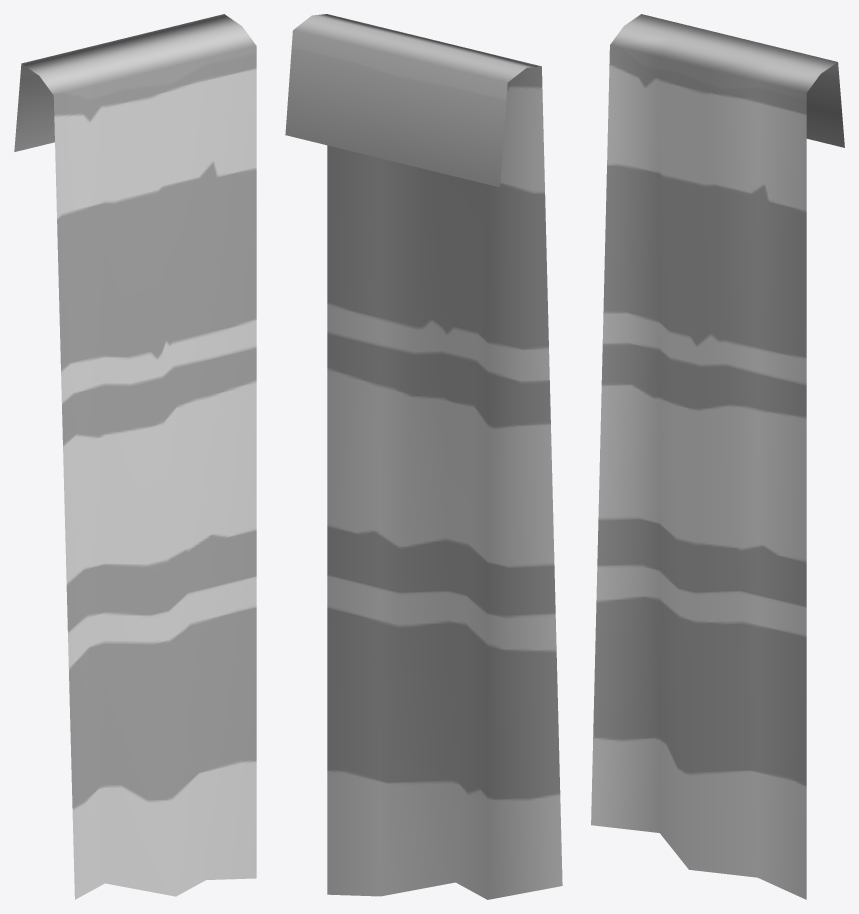
Rendered from BannerWall4.fbx.
3 views of the same model, side by side, from view 1: azimuth 30°, elevation 25°; view 2: azimuth 150°, elevation 25°; view 3: azimuth 330°, elevation 25° (orthographic). The views are drawn at different scales.
Parts seen in each view (by area): view 1: BannerWall4; view 2: BannerWall4; view 3: BannerWall4.
Part boxes in pixels (x1=…): BannerWall4: x1=14, y1=14, x2=256, y2=899; BannerWall4: x1=285, y1=14, x2=562, y2=899; BannerWall4: x1=591, y1=14, x2=844, y2=899.
Bounding box in the file's own units: 283 × 1123 × 145.
